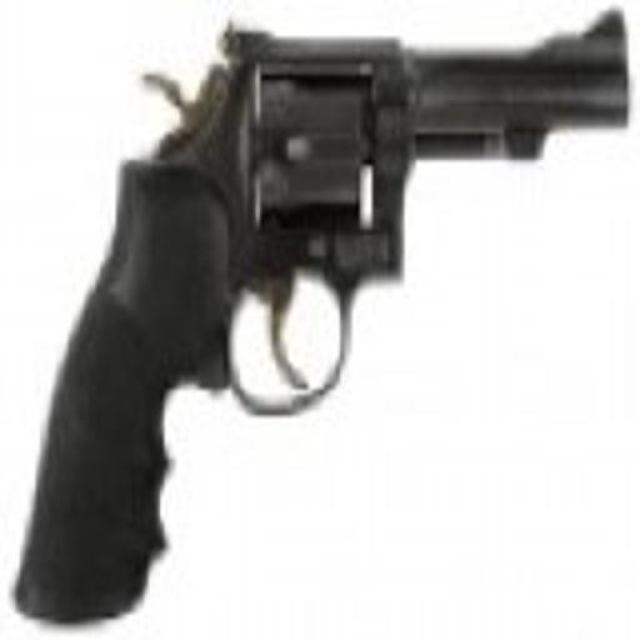pistol: (15, 10, 620, 617)
